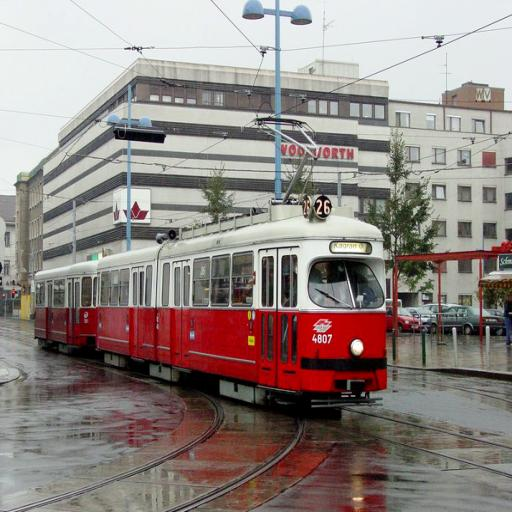E2-Tram: (30, 188, 390, 406)
